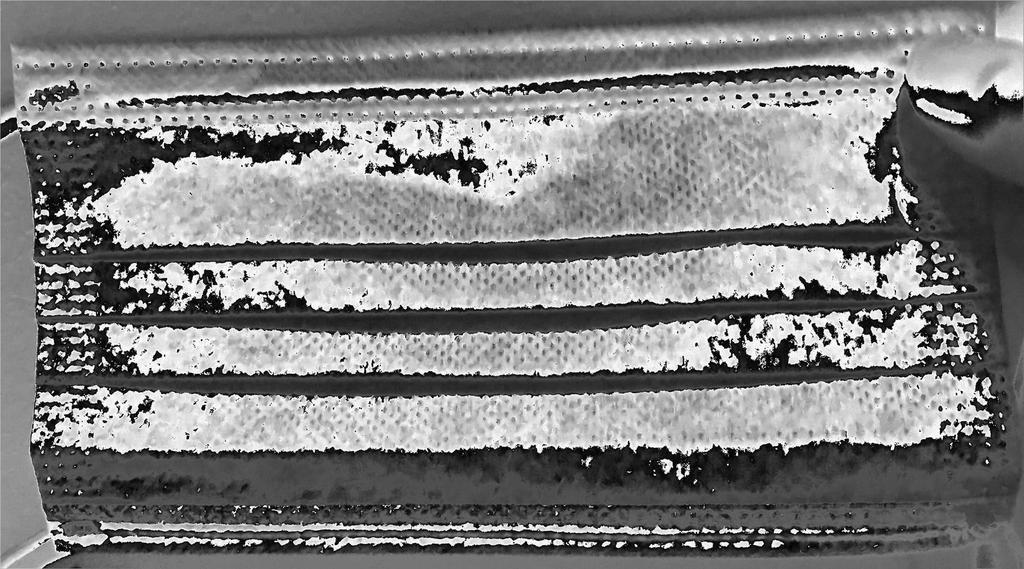High GSM: (22, 68, 893, 464)
